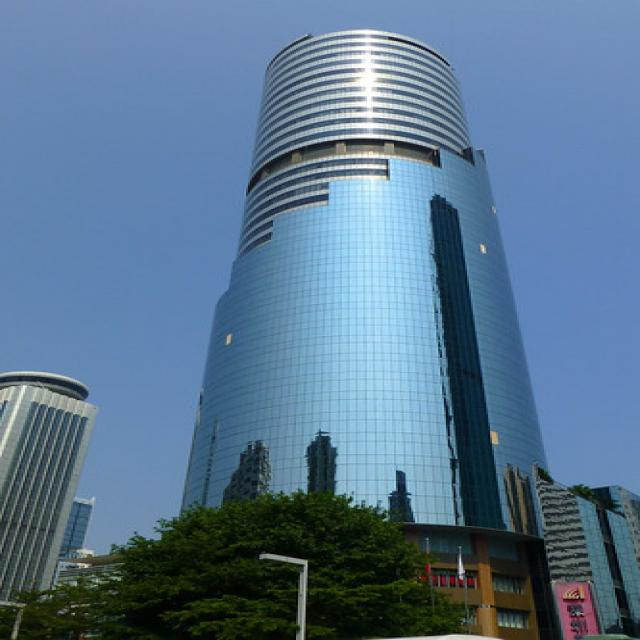Normal_building: (165, 23, 563, 605)
